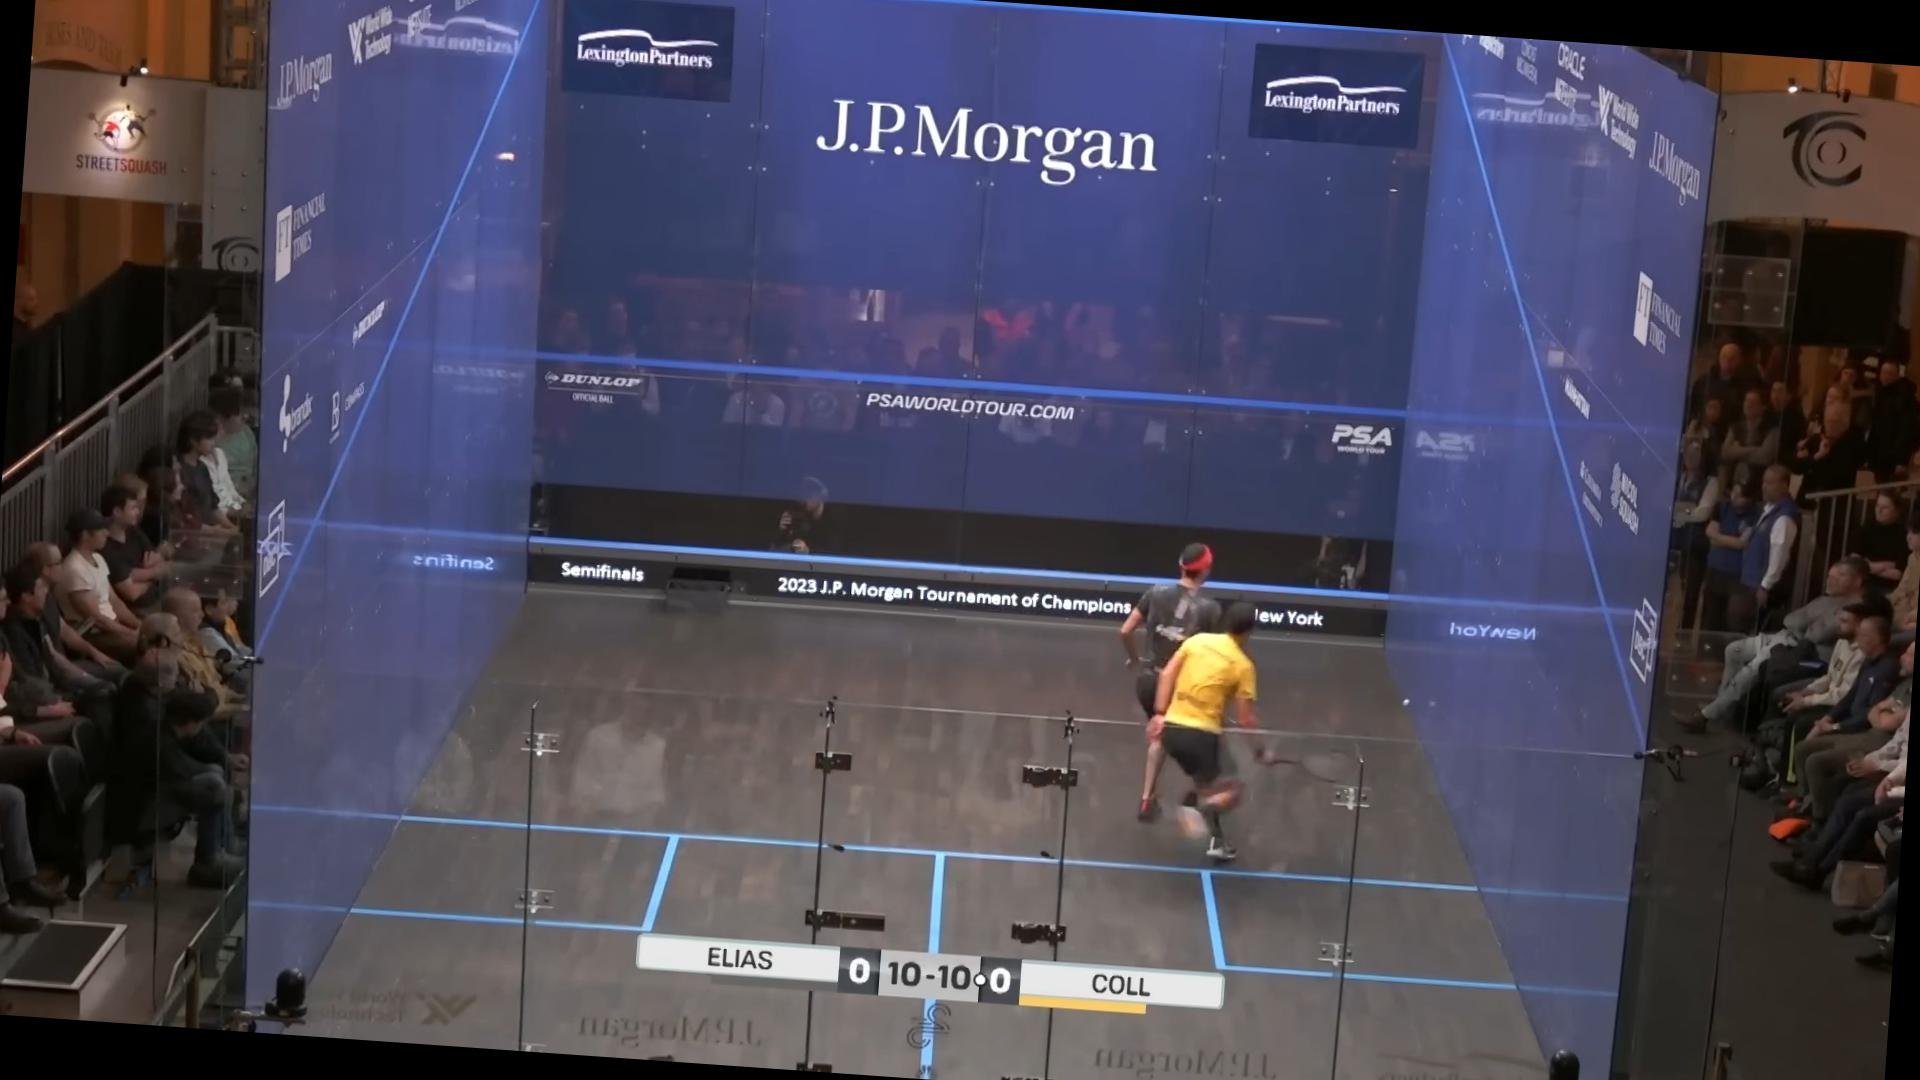Racket: (1270, 725, 1366, 790)
